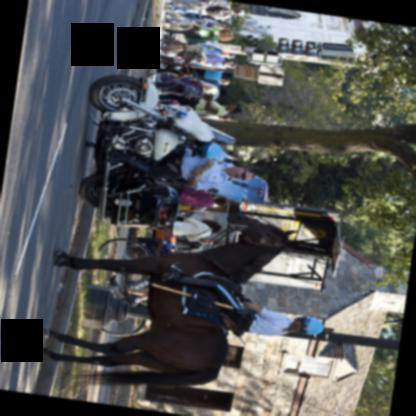backpack: (205, 6, 230, 17)
handbag: (174, 215, 209, 236), (183, 34, 205, 46), (192, 106, 207, 116), (191, 22, 207, 31), (177, 202, 191, 211)
